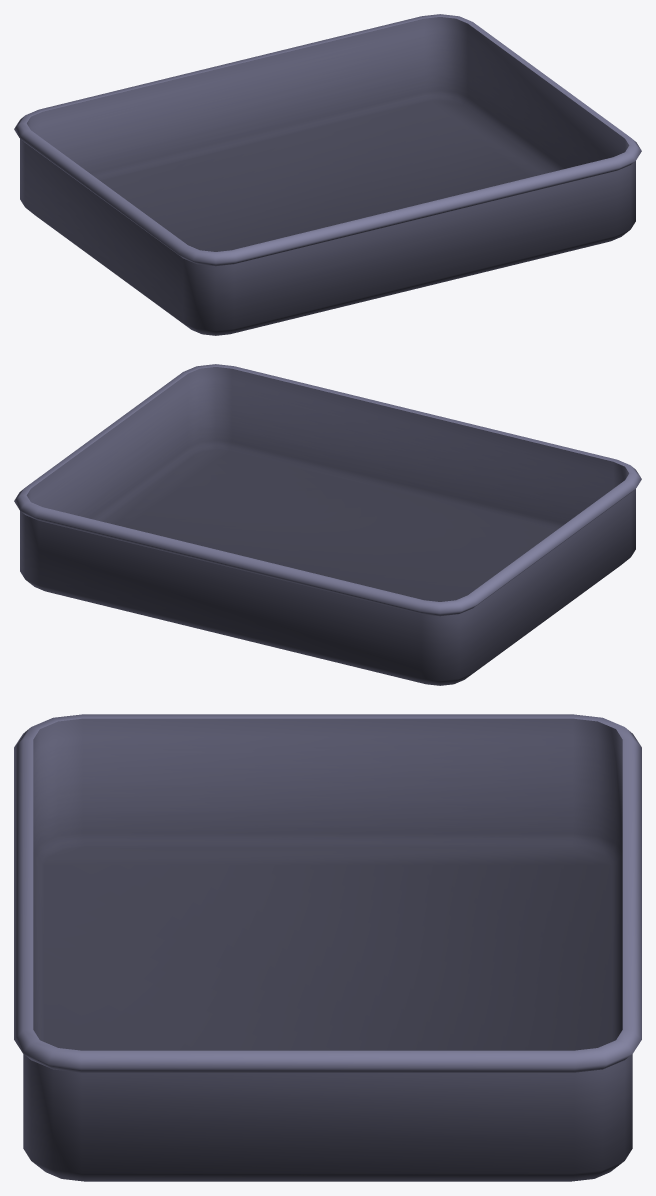
The model's file is m_SheetCake_BakingTray01.fbx.
The picture shows the model from 3 angles, top to bottom: view 1: azimuth 30°, elevation 25°; view 2: azimuth 150°, elevation 25°; view 3: azimuth 270°, elevation 25°; orthographic projection. The views are drawn at different scales.
Parts seen in each view (by area): view 1: m_SheetCake_BakingTray01; view 2: m_SheetCake_BakingTray01; view 3: m_SheetCake_BakingTray01.
Boxes of the visible parts, x1,y1,x2,y2 form: m_SheetCake_BakingTray01: [14, 14, 641, 335]; m_SheetCake_BakingTray01: [14, 364, 641, 685]; m_SheetCake_BakingTray01: [14, 714, 641, 1181].
Bounding box in the file's own units: 41.96 × 7.49 × 31.96.
